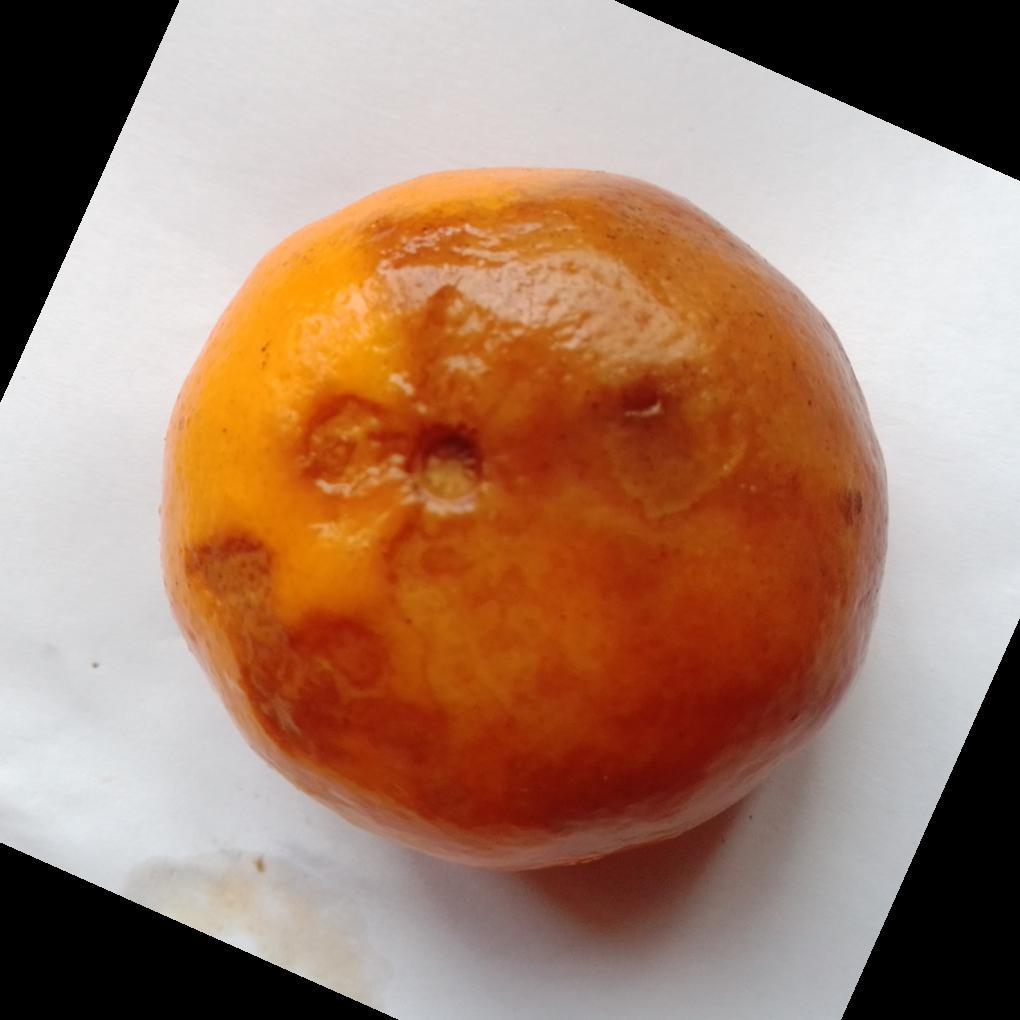FreshOrange: (158, 168, 890, 878)
